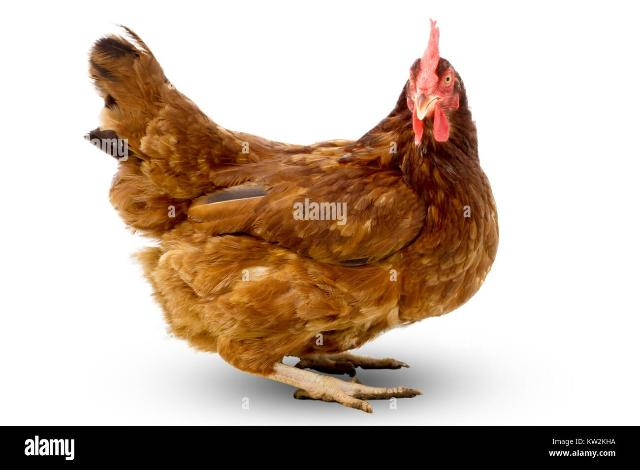Chicken: (87, 17, 501, 414)
